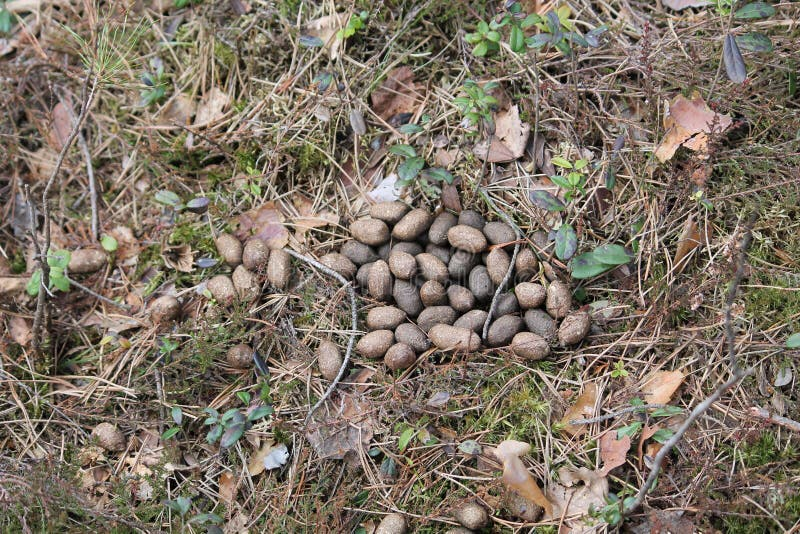Elk: (328, 190, 572, 341)
